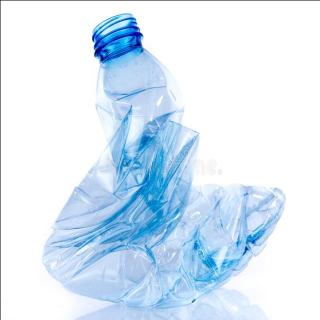Anorganik: (40, 9, 286, 313)
